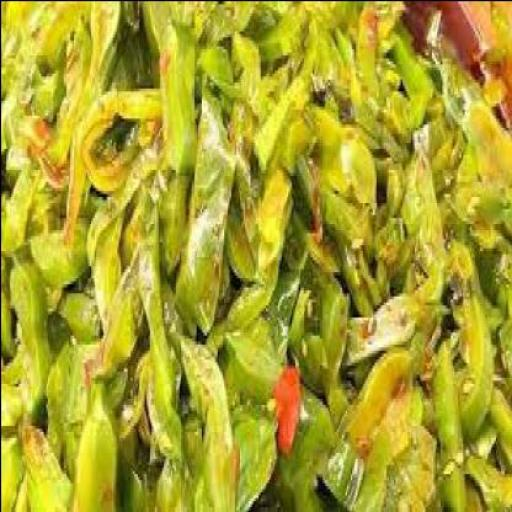biodegradable: (1, 0, 510, 510), (139, 2, 198, 268), (327, 340, 408, 509), (177, 88, 228, 328), (220, 153, 288, 326), (171, 325, 234, 509), (446, 241, 489, 446), (433, 328, 467, 509), (225, 316, 277, 406), (462, 440, 510, 509), (486, 376, 511, 467)
